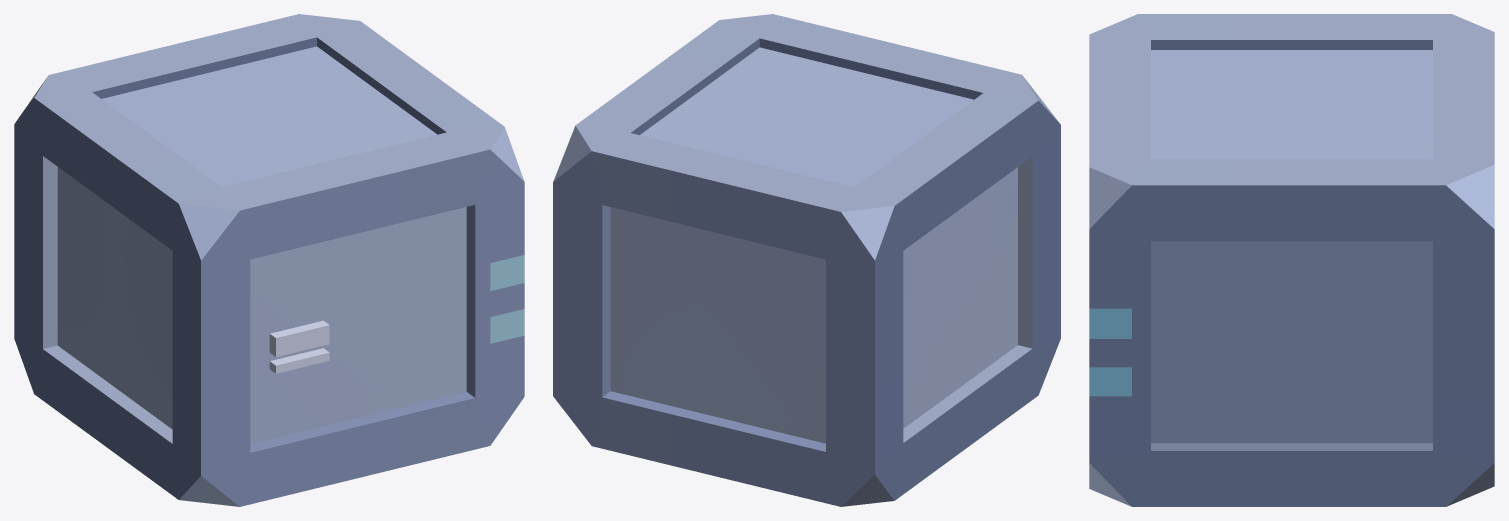
The model's file is ban.fbx.
3 views of the same model, side by side, from view 1: azimuth 30°, elevation 25°; view 2: azimuth 150°, elevation 25°; view 3: azimuth 270°, elevation 25° (orthographic). The views are drawn at different scales.
Parts seen in each view (by area): view 1: ban; view 2: ban; view 3: ban.
Boxes of the visible parts, x1,y1,x2,y2 form: ban: (14,14,524,506); ban: (553,14,1060,506); ban: (1089,14,1494,506).
Size of the model in its own units: 200 by 175 by 200.
